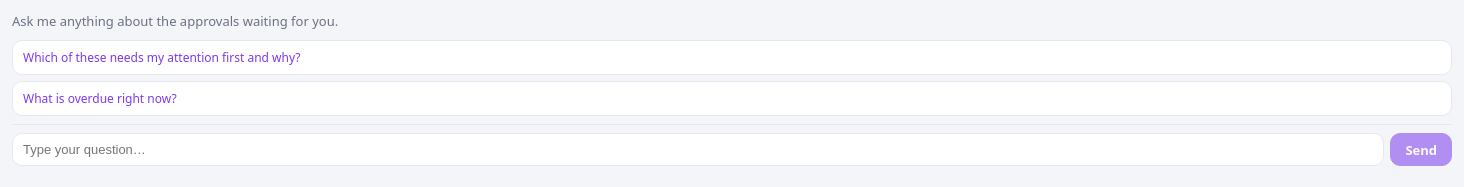
Test case: ChatPanel: streaming state › renders tokens as they arrive, not all at once at the end
Later steps or results of the test are not shown.
Type "Which of these needs my attention first?" into the field named "message the assistant" at (698, 150), box [12, 133, 1384, 166]
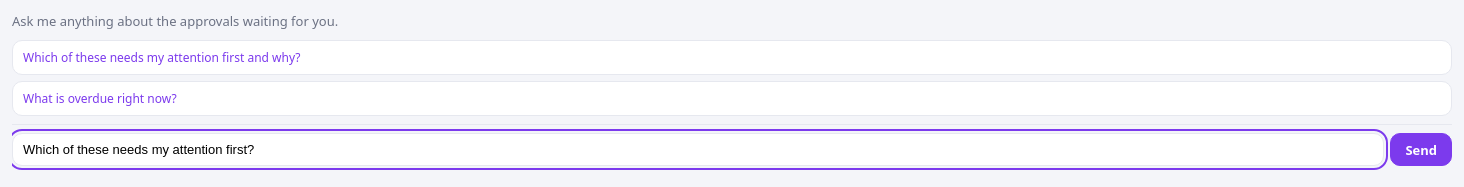
Click the button "Send" at (1421, 150), box [1390, 133, 1452, 166]
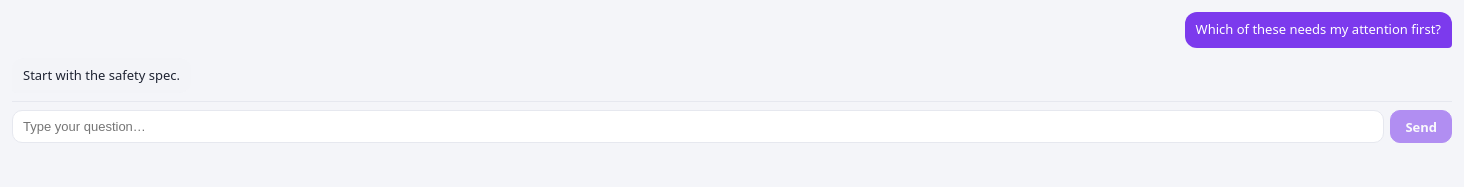
Expected: the field named "message the assistant" is enabled, [12, 110, 1384, 143]
Result: the element with test id "assistant-message" shows "Start with" at [23, 66, 180, 84]
Result: the element with test id "assistant-message" reads "Start with the safety spec." at [23, 66, 180, 84]
